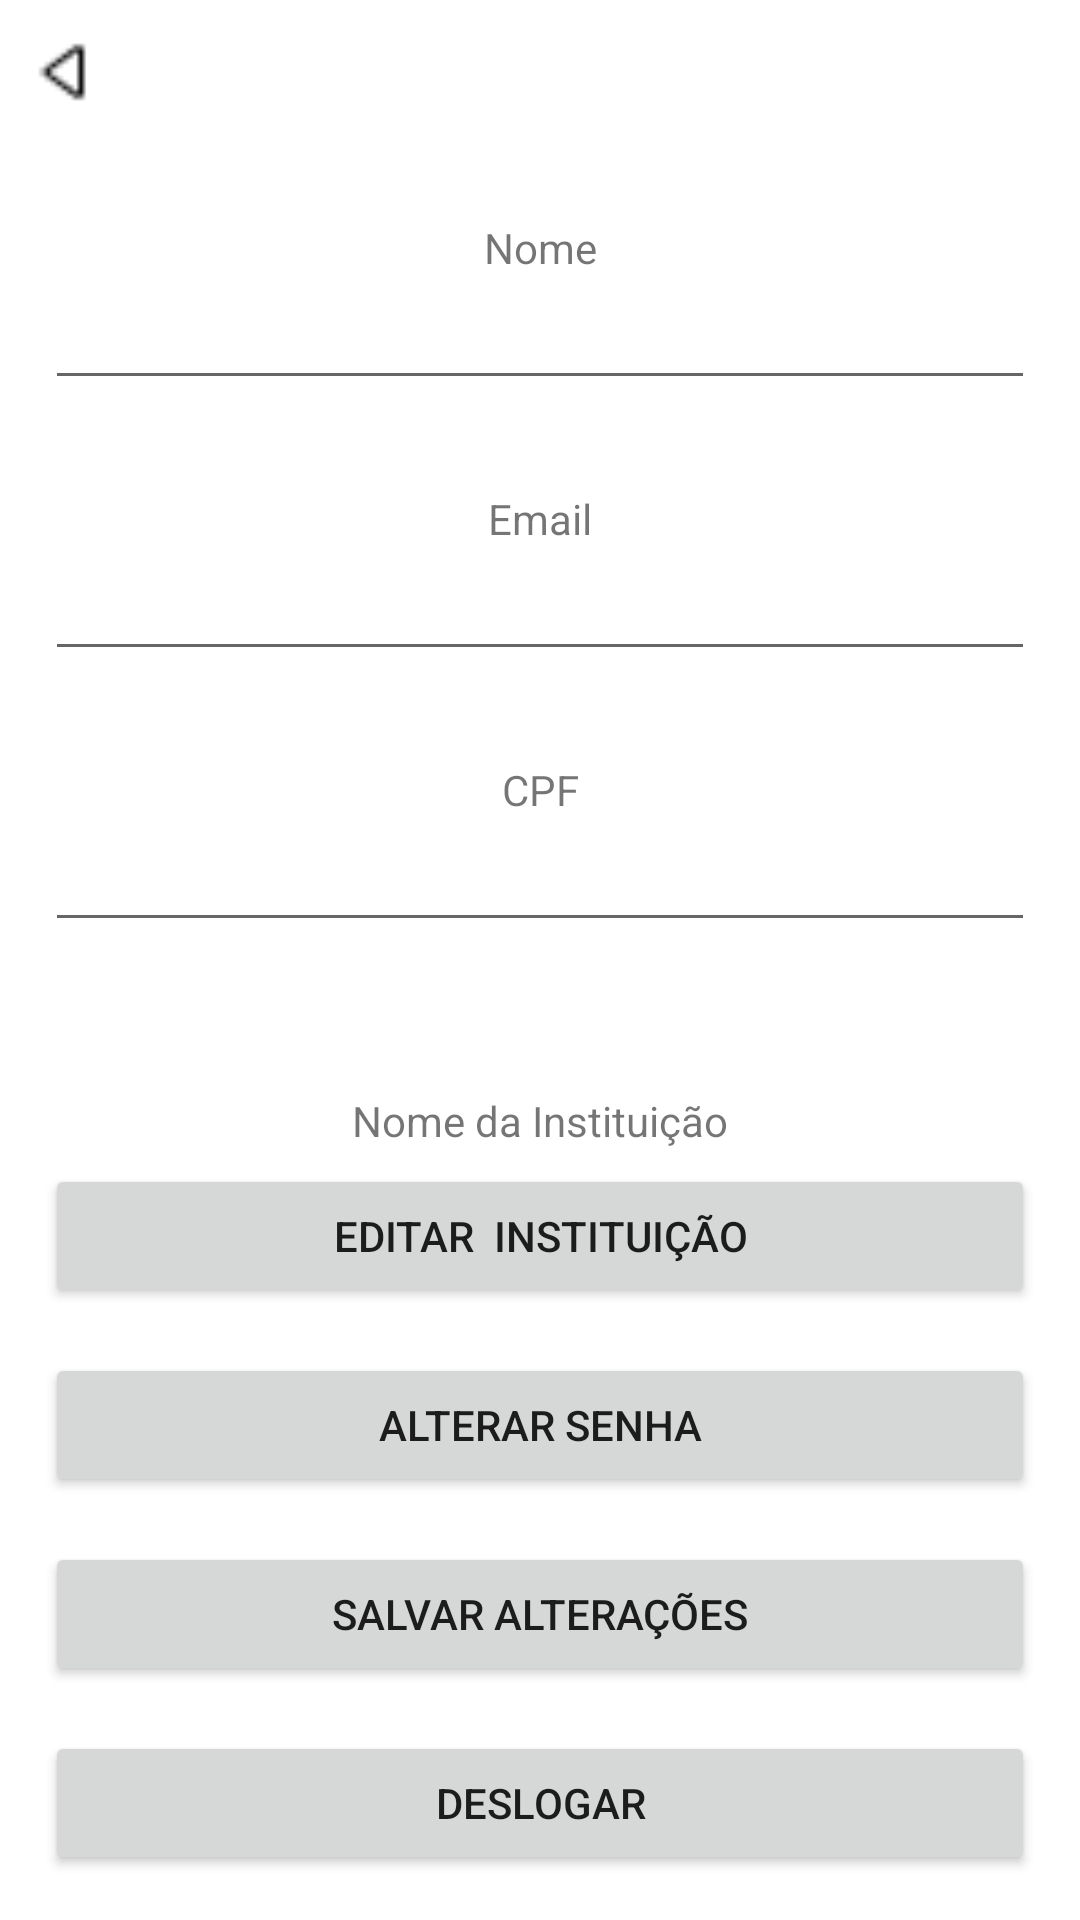

Screen size 1080x1920. Icon name, then its center in pixels as (x,y):
arrow left: (62,72)
